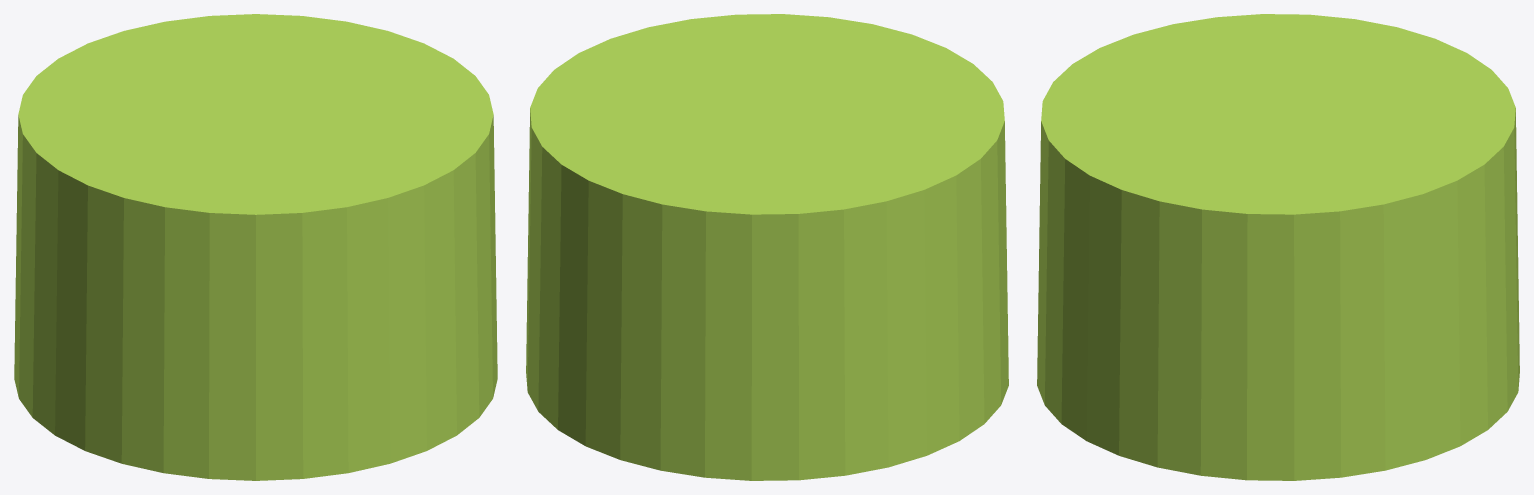
File: ur10_e_link_4_coll_3.dae
3 renders of one model, left to right at view 1: azimuth 30°, elevation 25°; view 2: azimuth 150°, elevation 25°; view 3: azimuth 270°, elevation 25°, orthographic.
Visible parts, largest first — view 1: node; view 2: node; view 3: node.
Boxes of the visible parts, left/top/right/bottom form: node: left=14, top=14, right=497, bottom=480; node: left=526, top=14, right=1008, bottom=480; node: left=1037, top=14, right=1519, bottom=480.
Size of the model in its own units: 0.0896 by 0.0542 by 0.0896.
